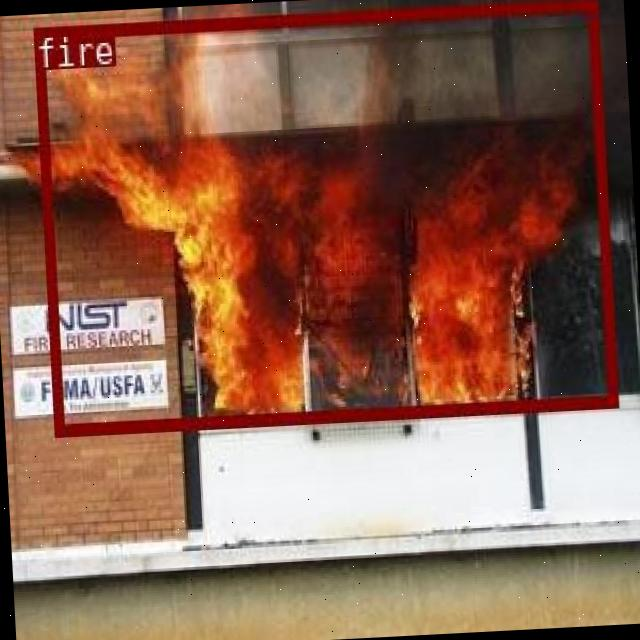fire: (31, 0, 617, 433)
